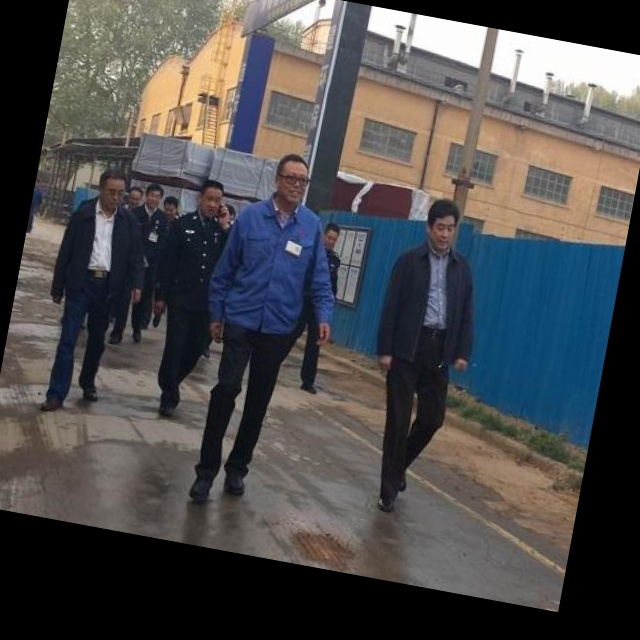Sin_Casco_Mascarrilla: (270, 149, 316, 207), (421, 195, 465, 254)
Sin_Chaleco: (218, 195, 327, 343)
